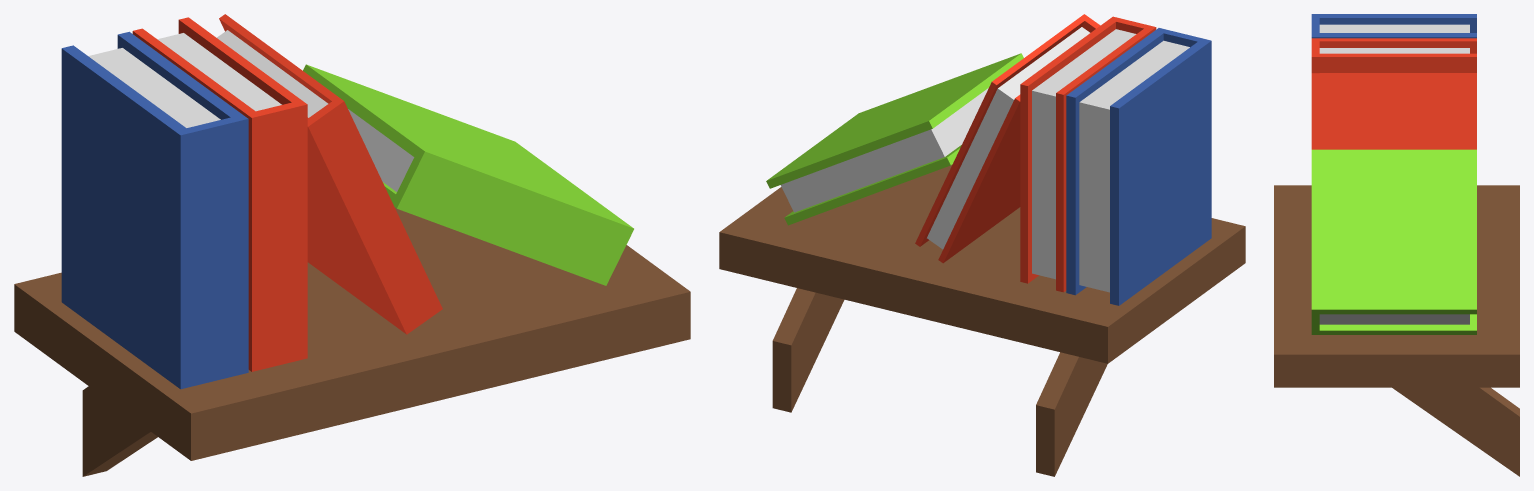
Rendered from Rack.fbx.
3 views of the same model, side by side, from view 1: azimuth 30°, elevation 25°; view 2: azimuth 150°, elevation 25°; view 3: azimuth 270°, elevation 25° (orthographic). The views are drawn at different scales.
Parts seen in each view (by area): view 1: Rack; view 2: Rack; view 3: Rack.
Part boxes in pixels (x1,y1,x2,y2): Rack: [14, 14, 690, 476]; Rack: [719, 14, 1245, 476]; Rack: [1274, 14, 1519, 476].
Bounding box in the file's own units: 123 × 200 × 177.
